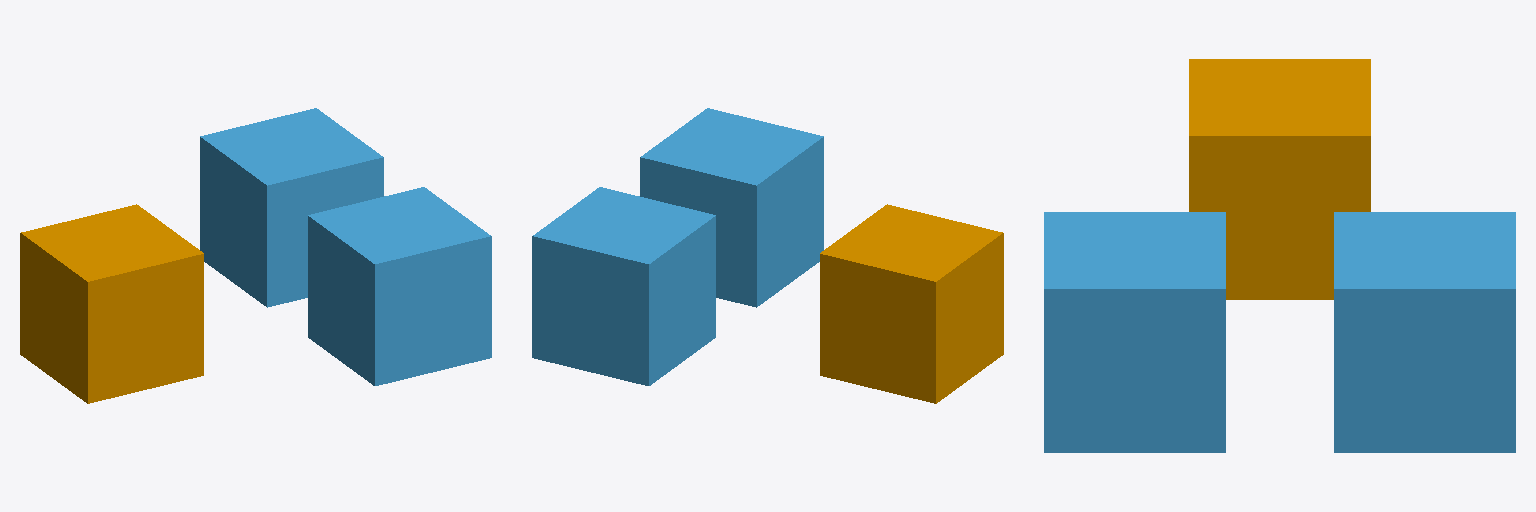
The robot description file, URDF, robot "material_mesh_color":
<?xml version="1.0"?>
<robot name="material_mesh_color">
  <link name="link_box">
    <visual>
      <geometry>
        <box size="0.5 0.5 0.5"/>
      </geometry>
    </visual>
  </link>
  <link name="link_obj">
    <visual>
      <geometry>
        <!-- This obj file has two materials: green_mat and red_mat. -->
        <mesh filename="assets/two_boxes.obj" scale="0.5 0.5 0.5"/>
      </geometry>
    </visual>
  </link>

  <joint name="joint_box_obj" type="fixed">
    <origin rpy="0 0 0" xyz="1 0 0"/>
    <parent link="link_box"/>
    <child link="link_obj"/>
  </joint>
</robot>

--- Facts derived from the render (not from the file) ---
Views: 3 orthographic renders of the robot side by side, from view 1: azimuth 30°, elevation 25°; view 2: azimuth 150°, elevation 25°; view 3: azimuth 270°, elevation 25°.
Model material_mesh_color with 2 links and 1 joints (1 fixed), rooted at link_box, posed all joints at 0.
Visible links, largest first — view 1: link_obj, link_box; view 2: link_obj, link_box; view 3: link_obj, link_box.
Link boxes in pixels (x1,y1,x2,y2): link_obj: (200, 108, 491, 385); link_box: (20, 204, 203, 403); link_obj: (532, 108, 823, 385); link_box: (820, 204, 1003, 403); link_obj: (1044, 212, 1515, 452); link_box: (1189, 59, 1370, 299).
Bounding box of the posed robot: 1.5 × 1.3 × 0.5 m (x, y, z).
Meshes: 1 distinct files referenced, 1 mesh visuals loaded (1 OBJ).